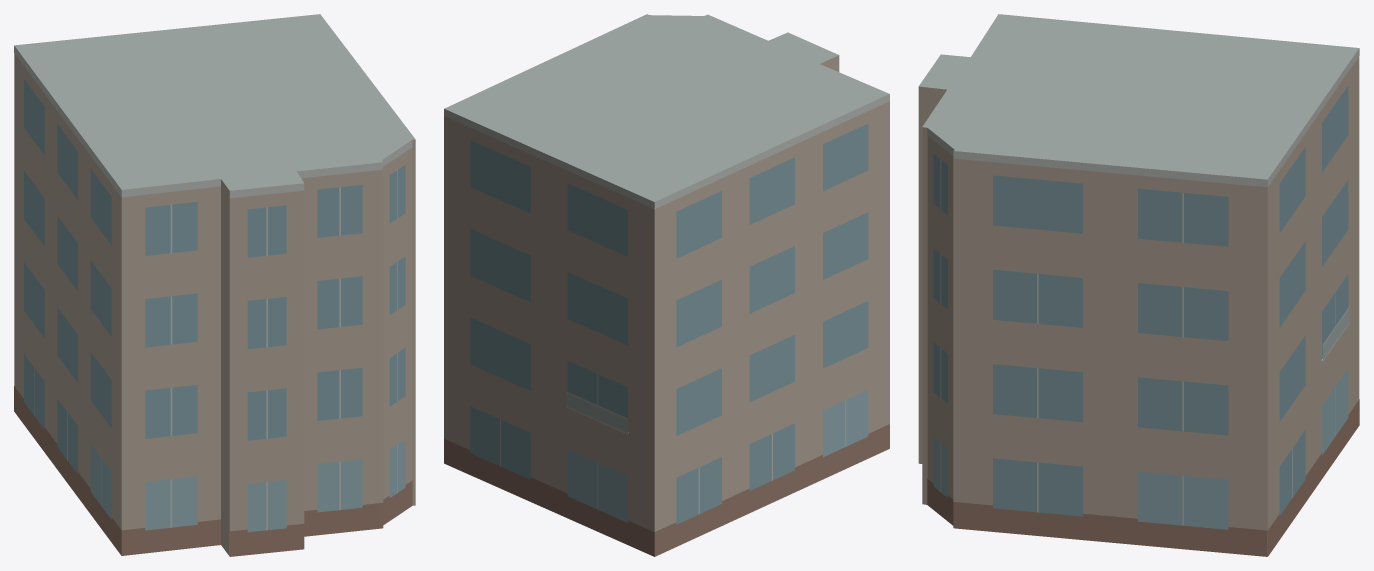
The model's file is survey-upis-32823275.glb.
The picture shows the model from 3 angles, left to right: view 1: azimuth 30°, elevation 25°; view 2: azimuth 150°, elevation 25°; view 3: azimuth 270°, elevation 25°; orthographic projection. The views are drawn at different scales.
Visible parts, largest first — view 1: survey-upis-32823275.tmp; view 2: survey-upis-32823275.tmp; view 3: survey-upis-32823275.tmp.
Part boxes in pixels (x1,y1,x2,y2): survey-upis-32823275.tmp: [14, 14, 415, 556]; survey-upis-32823275.tmp: [444, 14, 889, 556]; survey-upis-32823275.tmp: [918, 14, 1359, 556].
Bounding box in the file's own units: 11.31 × 12 × 12.72.
